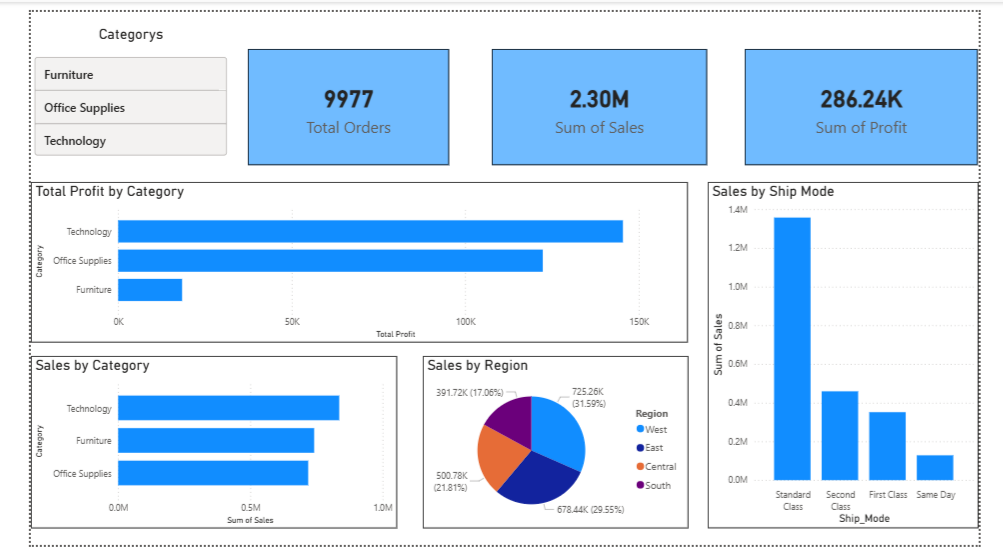

The page's visual inventory and layout, read from the dashboard file:
{"tool":"powerbi","page":{"name":"Page 1","canvas":[1280,720],"ordinal":0},"visuals":[{"type":"barChart","fields":{"Y":["SampleSuperstore.Total Profit"],"Category":["SampleSuperstore.Category"]},"box":[0,230.4,888.5,217.4],"z":0},{"type":"card","fields":{"Values":["SampleSuperstore.Total Orders"]},"box":[293.8,50.4,272.2,157],"z":1000},{"type":"cardVisual","title":"Categorys","fields":{"Data":["SampleSuperstore.Total Orders"],"Rows":["SampleSuperstore.Category"]},"box":[0,18.7,270.7,201.6],"z":2000},{"type":"clusteredBarChart","title":"Sales by Category","fields":{"Category":["SampleSuperstore.Category"],"Y":["Sum(SampleSuperstore.Sales)"]},"box":[0,465.1,495.4,233.3],"z":3000},{"type":"pieChart","title":"Sales by Region","fields":{"Category":["SampleSuperstore.Region"],"Y":["Sum(SampleSuperstore.Sales)"]},"box":[529.9,465.1,358.6,233.3],"z":4000},{"type":"columnChart","title":"Sales by Ship Mode","fields":{"Category":["SampleSuperstore.Ship_Mode"],"Y":["Sum(SampleSuperstore.Sales)"]},"box":[914.4,230.4,365.8,468],"z":5000},{"type":"card","fields":{"Values":["Sum(SampleSuperstore.Sales)"]},"box":[623.5,50.4,290.9,157],"z":6000},{"type":"card","fields":{"Values":["Sum(SampleSuperstore.Profit)"]},"box":[964.8,50.4,315.4,157],"z":7000}]}

Visuals, with their boxes in screenshot pixels (x1, y1, x2, y2), scaled from the page's 1280x720 canvas onto the 1003x557 screenshot:
barChart - SampleSuperstore.Total Profit x SampleSuperstore.Category: 0, 178, 696, 346
card - SampleSuperstore.Total Orders: 230, 39, 444, 160
"Categorys" cardVisual: 0, 14, 212, 170
"Sales by Category" clusteredBarChart: 0, 360, 388, 540
"Sales by Region" pieChart: 415, 360, 696, 540
"Sales by Ship Mode" columnChart: 717, 178, 1002, 540
card - Sum(SampleSuperstore.Sales): 489, 39, 717, 160
card - Sum(SampleSuperstore.Profit): 756, 39, 1002, 160
